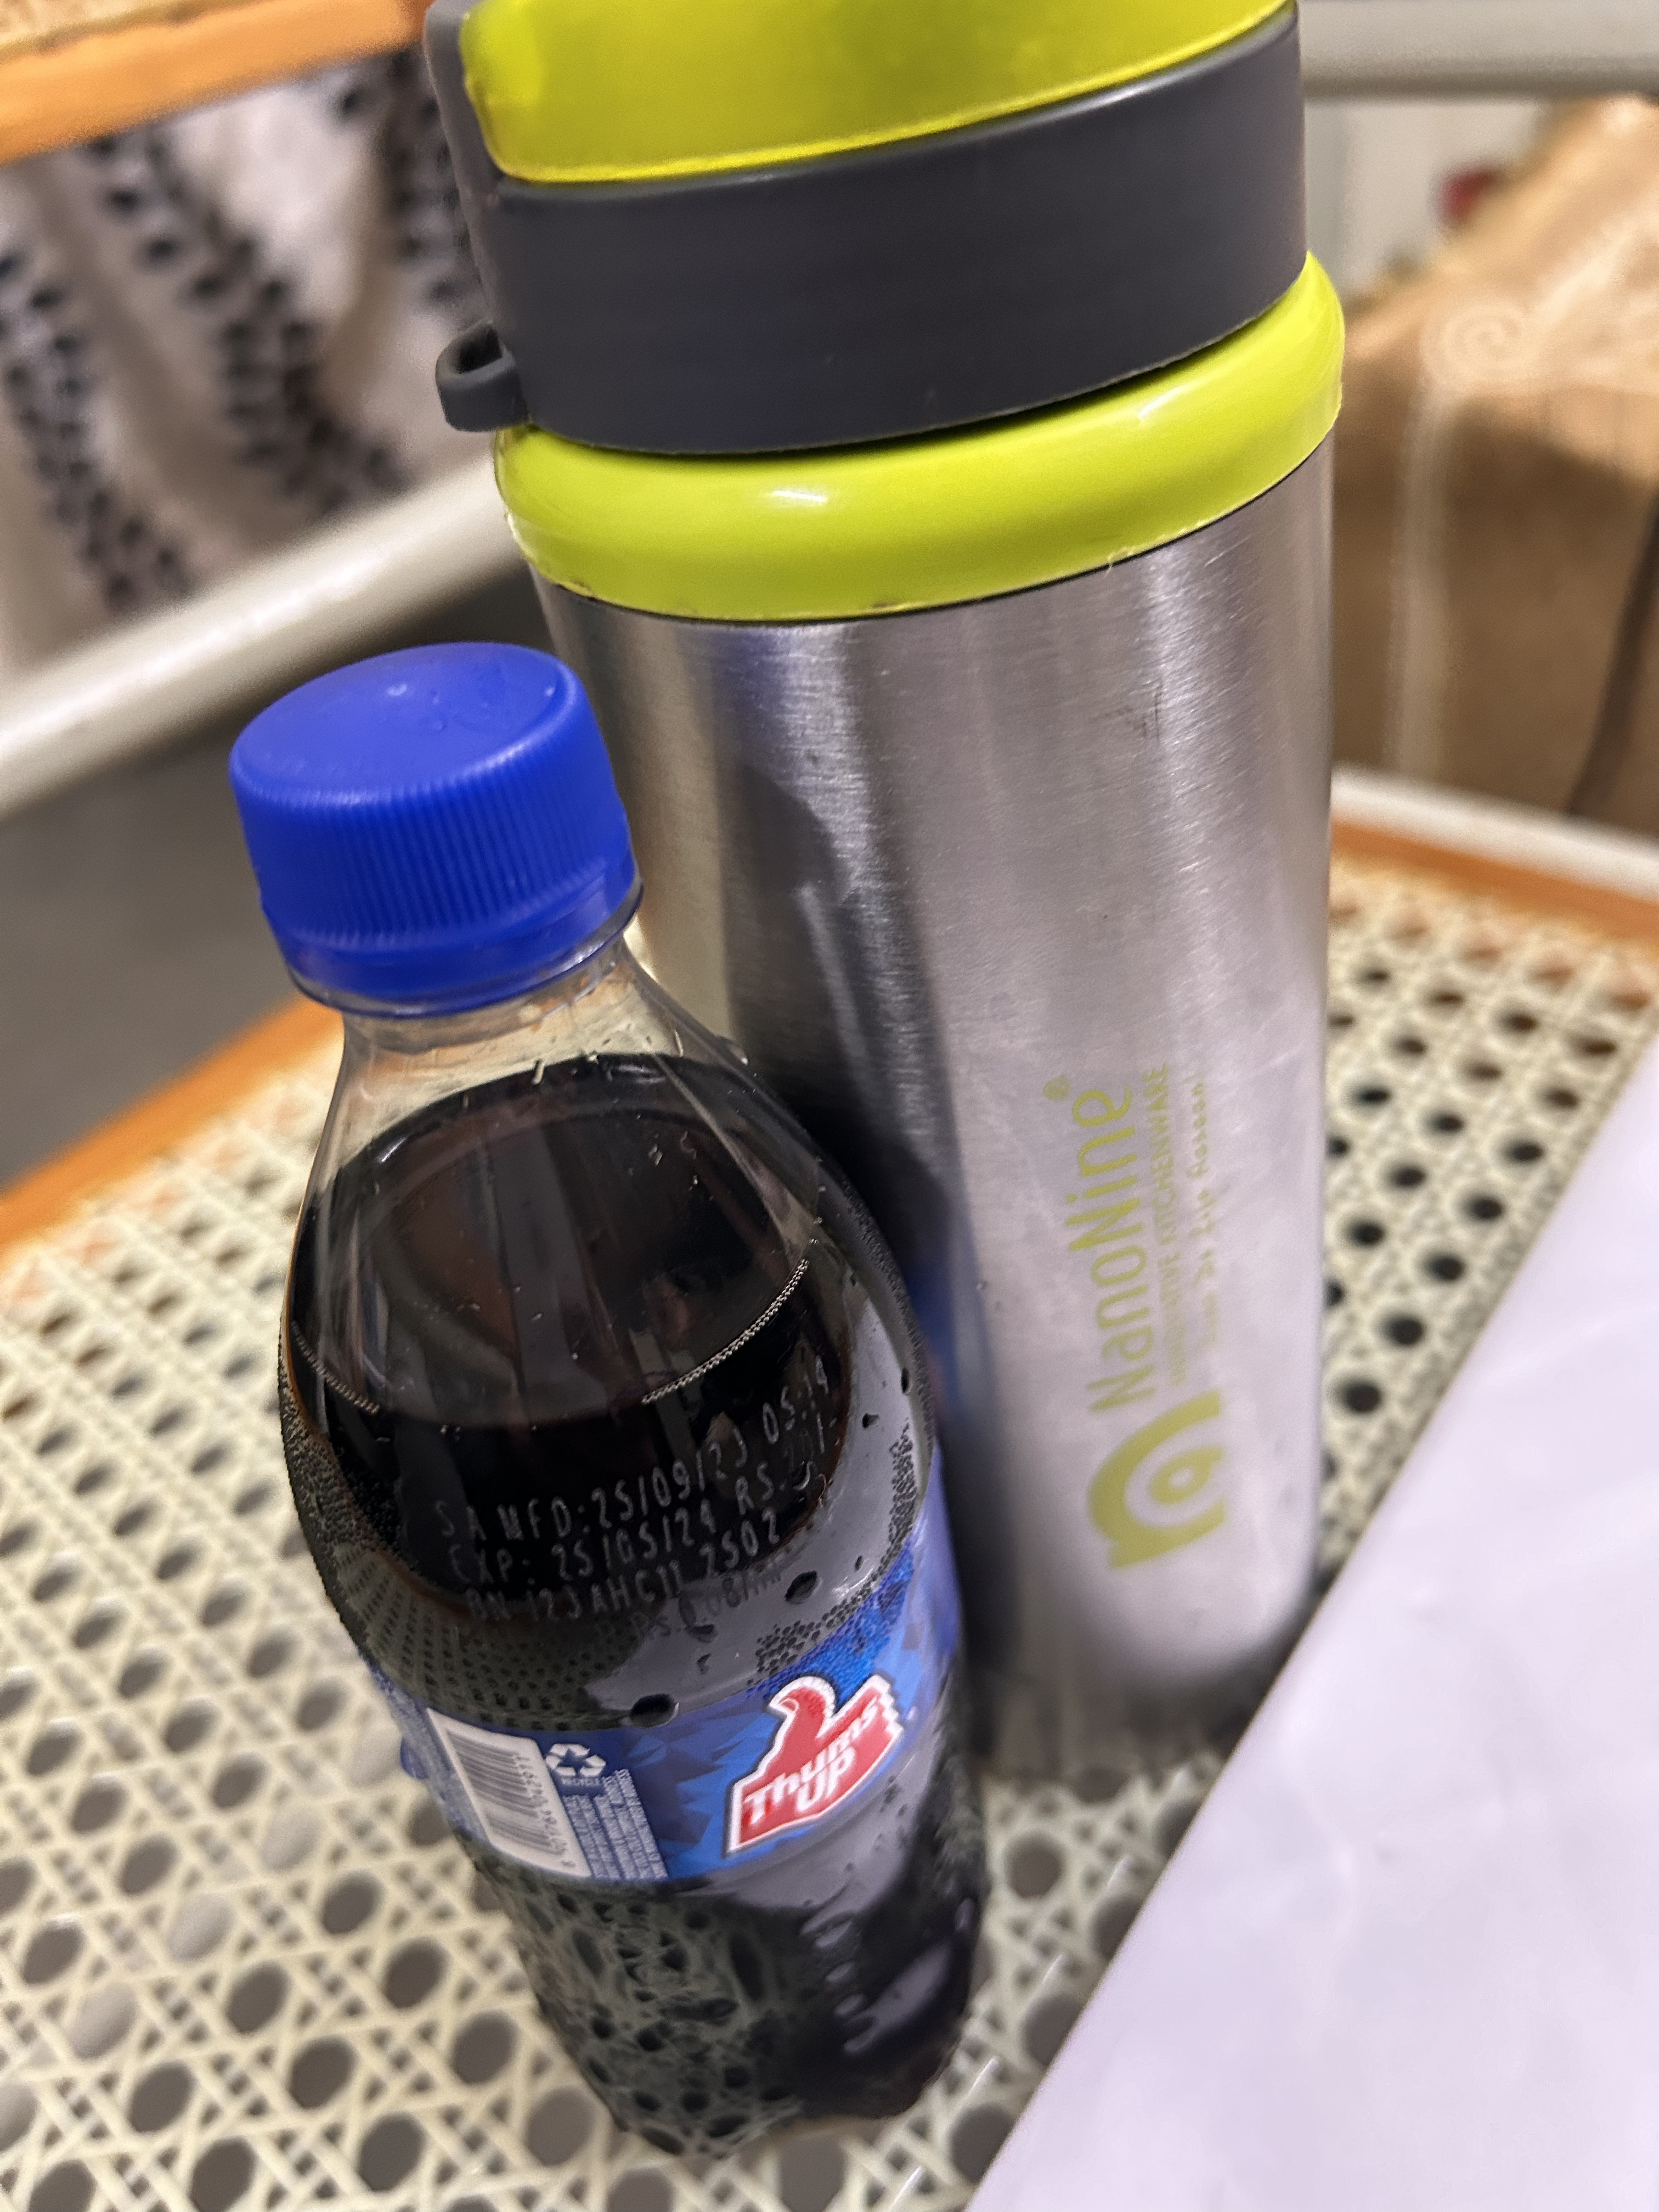sealstable: (202, 617, 709, 1146)
